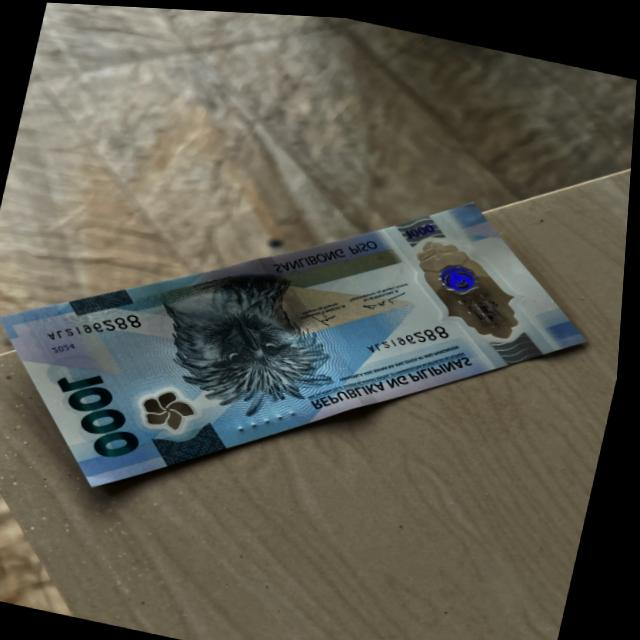clear_window: (395, 225, 538, 341)
eagle: (142, 257, 344, 410)
sampaguita: (141, 384, 206, 438)
